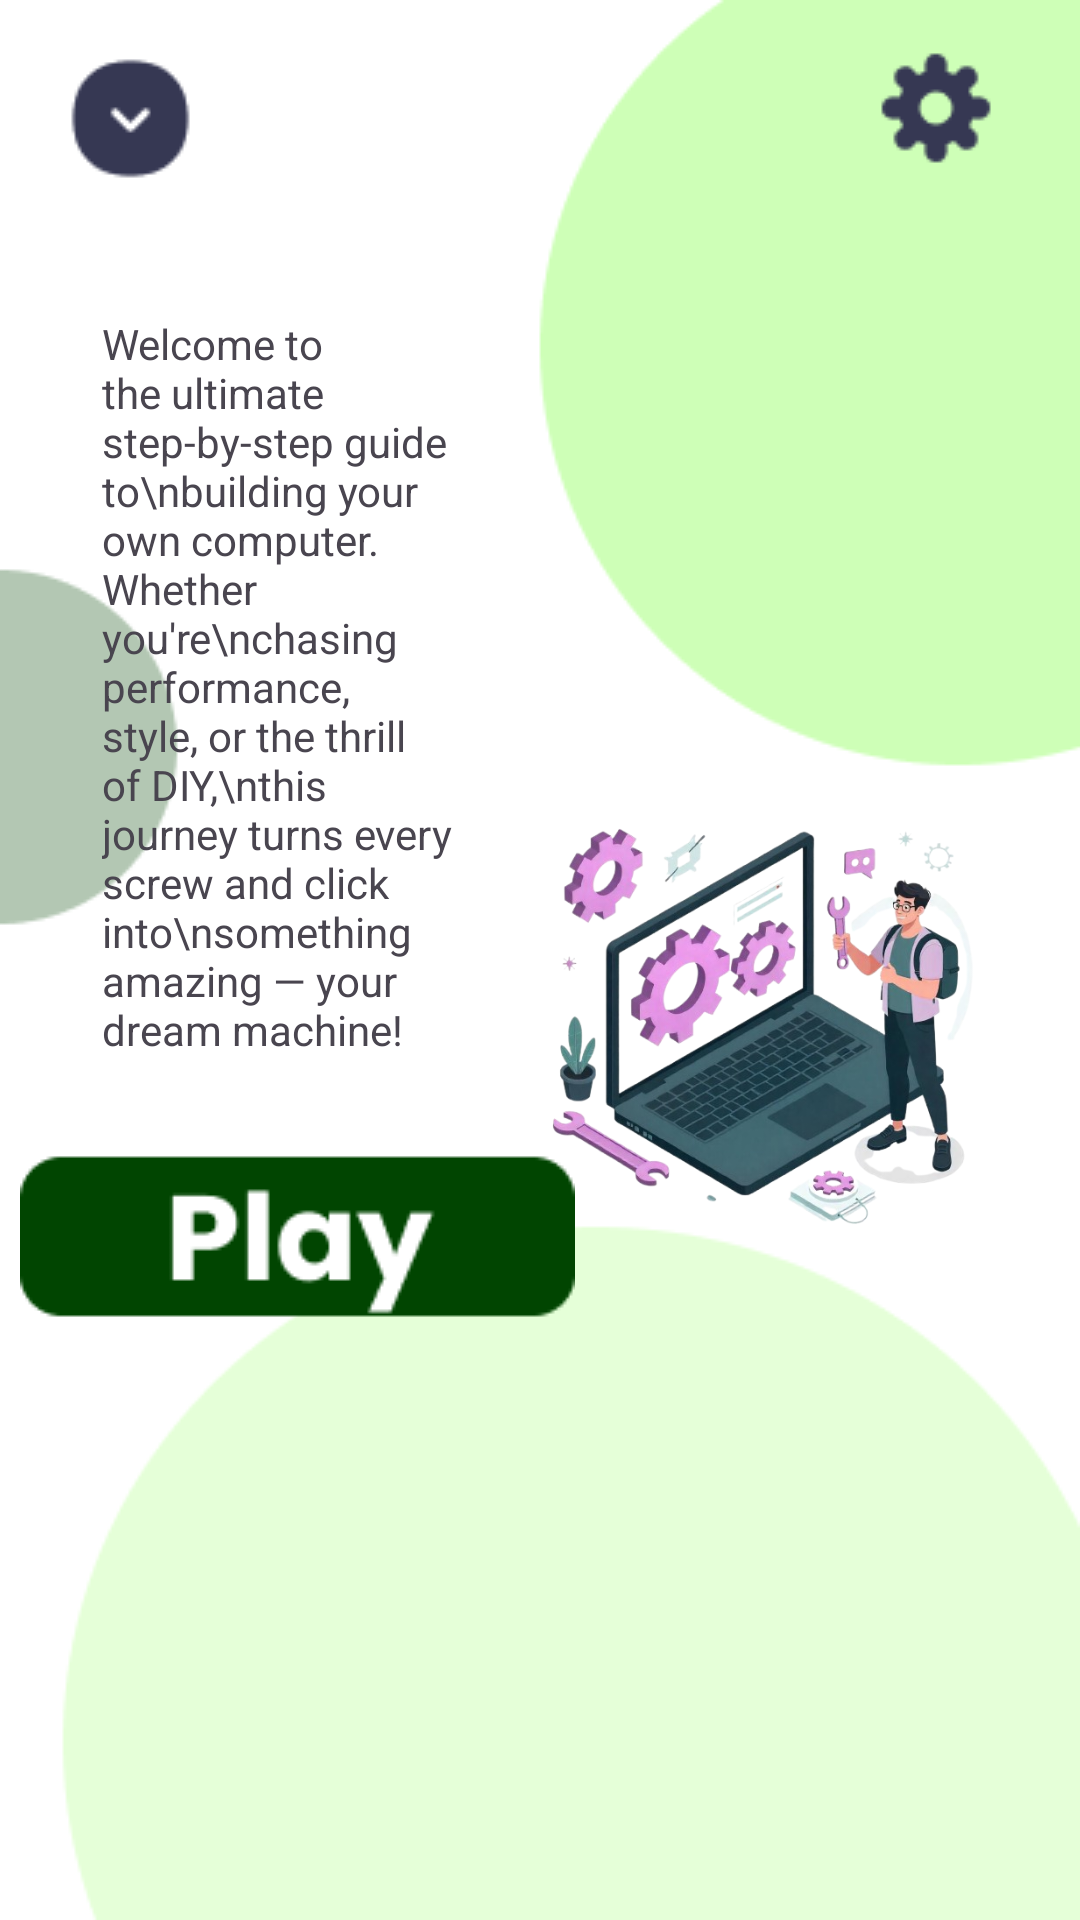

Screen size 1080px×1920px. Icon name, then its center in pixels as point (x, y):
back: point (130, 118)
setting: point (936, 108)
